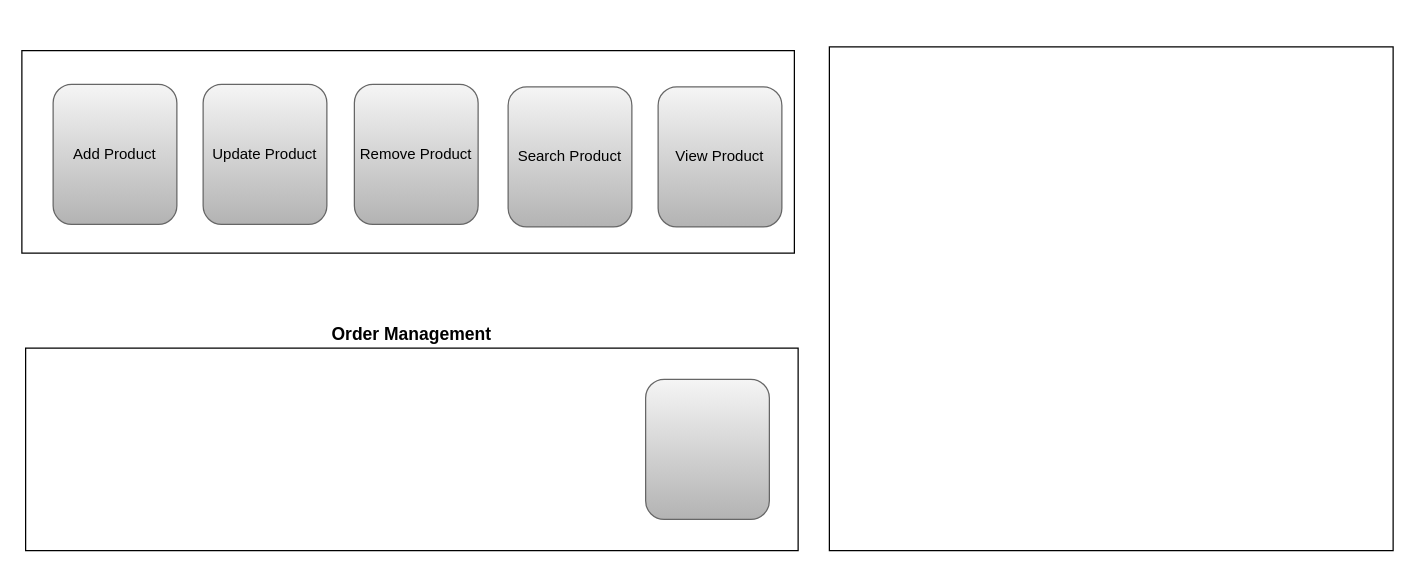
Some shapes in this 1415 by 573 pixel diagram are drawn without their labels. Here are the shapes that lost their labels. From the top down, the box of each, then its label:
(21, 49, 794, 253): Product Management
(828, 46, 1393, 551): Shopping Cart
(644, 378, 769, 519): Add Order
